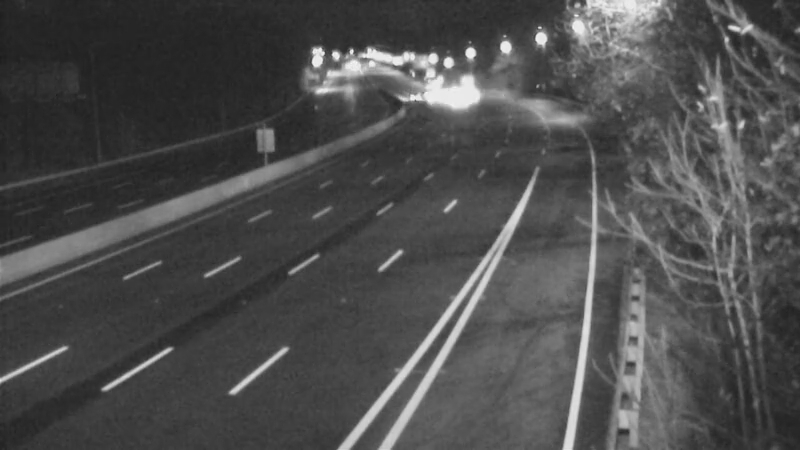vehicle: (440, 61, 490, 111), (409, 61, 459, 111), (435, 71, 485, 121), (425, 78, 475, 128), (385, 71, 435, 121)
